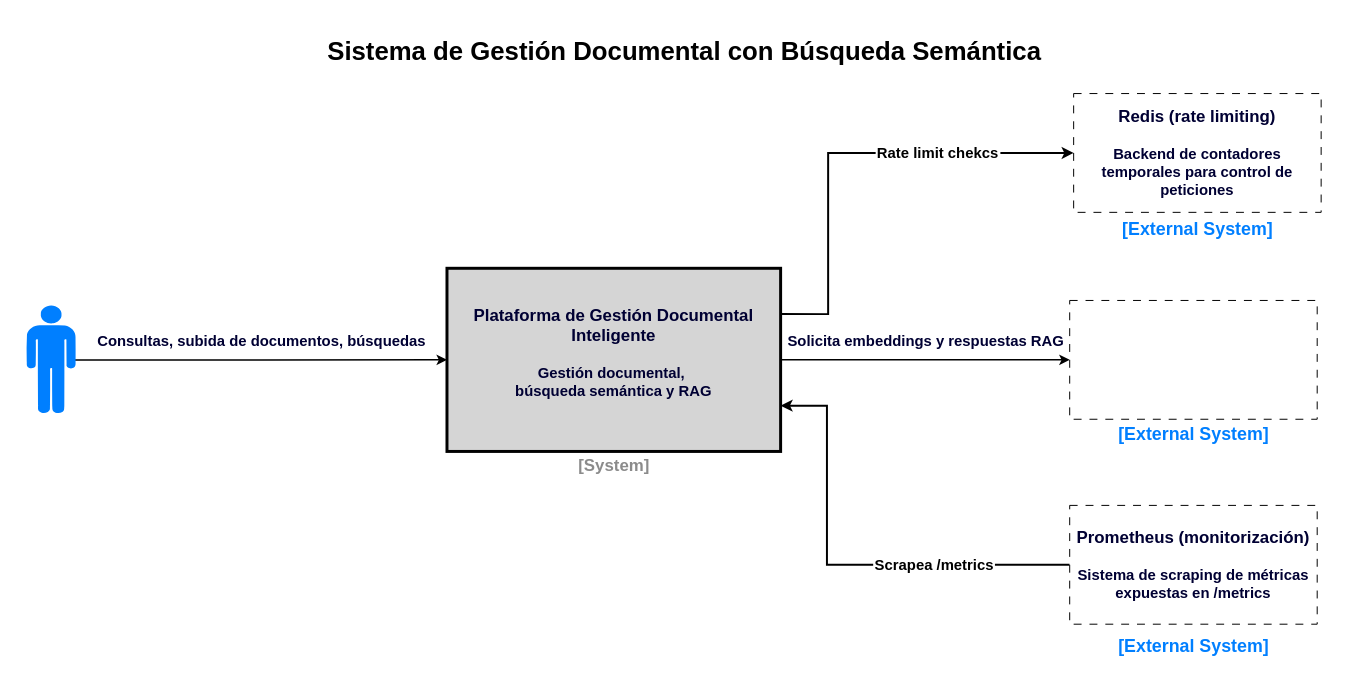
The diagram is 1360 pixels wide and 678 high, and some of its shapes have lost their labels. The shapes that lost their labels are listed below. From the top down, each one's centre as x and y in pixels, then its label:
At point (50, 359): "[ Person ]".
At point (1193, 359): "Servicio de IA / API de Embeddings Generación de embeddings y respuestas".
